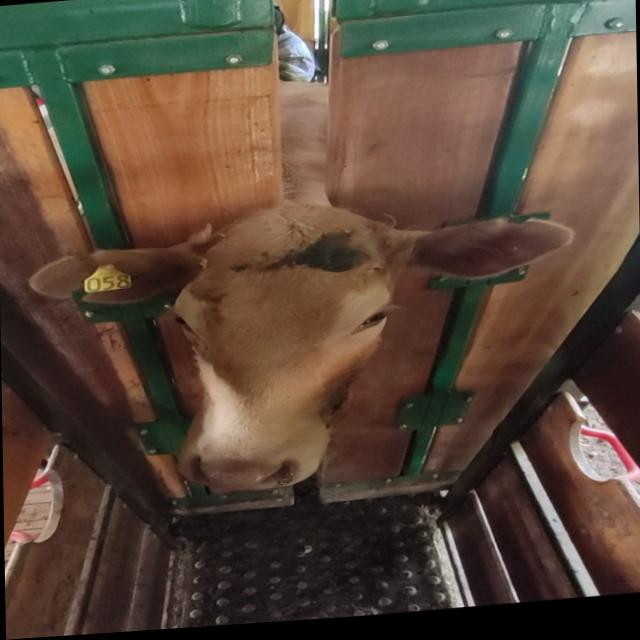cowFace: (168, 204, 396, 501)
